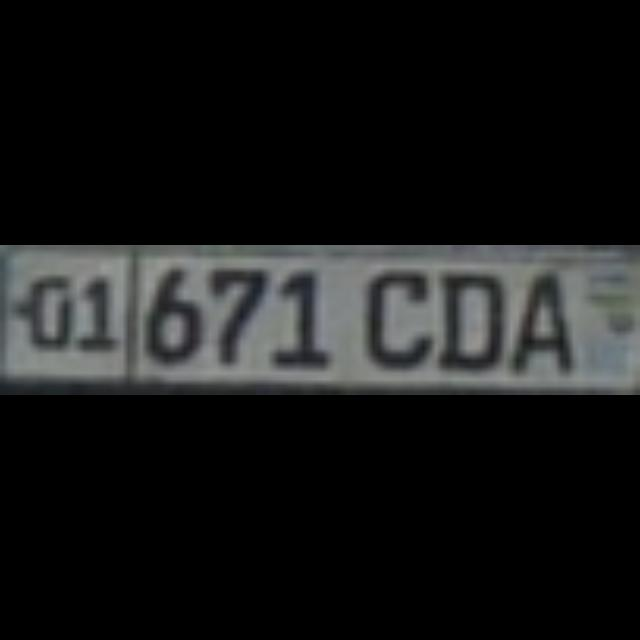0: (19, 264, 63, 338)
1: (264, 258, 320, 358), (69, 264, 107, 338)
6: (138, 258, 194, 352)
7: (201, 258, 257, 352)
A: (502, 264, 558, 364)
C: (352, 258, 421, 358)
D: (432, 264, 496, 358)
